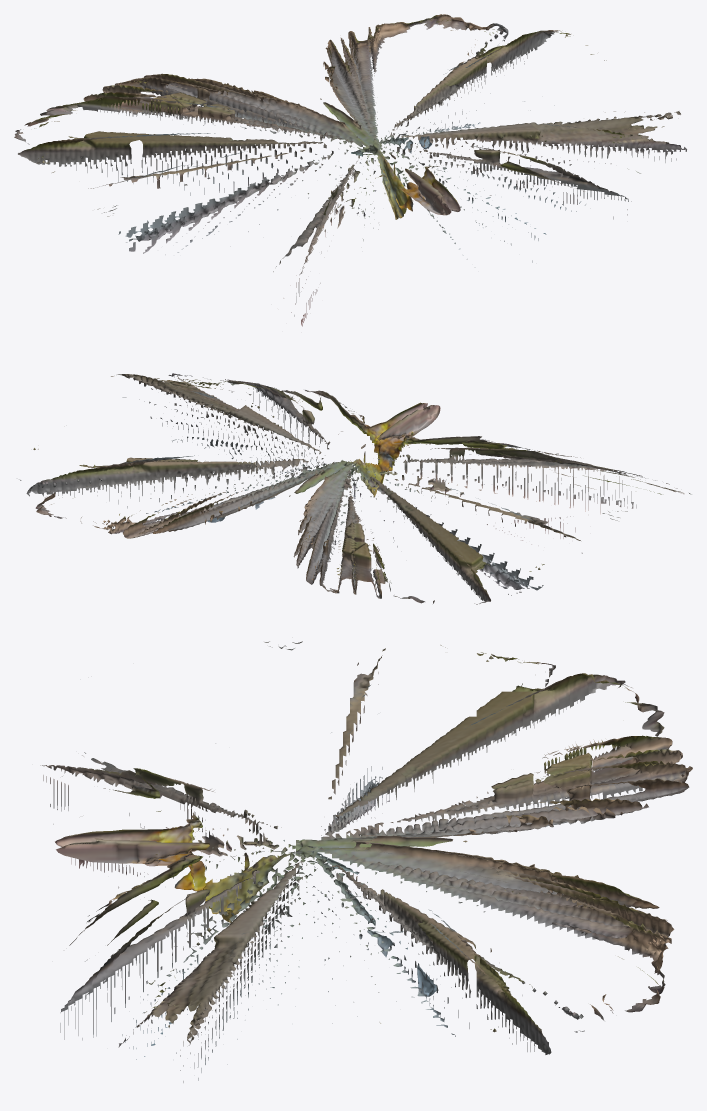
The model's file is paris-approach-collider.glb.
The picture shows the model from 3 angles, top to bottom: view 1: azimuth 30°, elevation 25°; view 2: azimuth 150°, elevation 25°; view 3: azimuth 270°, elevation 25°; orthographic projection. The views are drawn at different scales.
Visible parts, largest first — view 1: world; view 2: world; view 3: world.
Boxes of the visible parts, x1=… form: world: x1=14, y1=14, x2=686, y2=326; world: x1=19, y1=373, x2=691, y2=604; world: x1=40, y1=641, x2=692, y2=1082.
Bounding box in the file's own units: 186 × 45.94 × 134.
